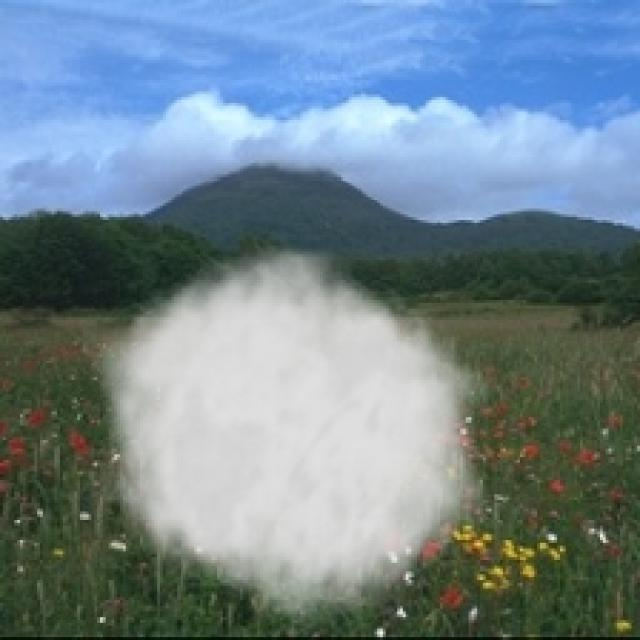Smoke: (82, 234, 492, 637)
